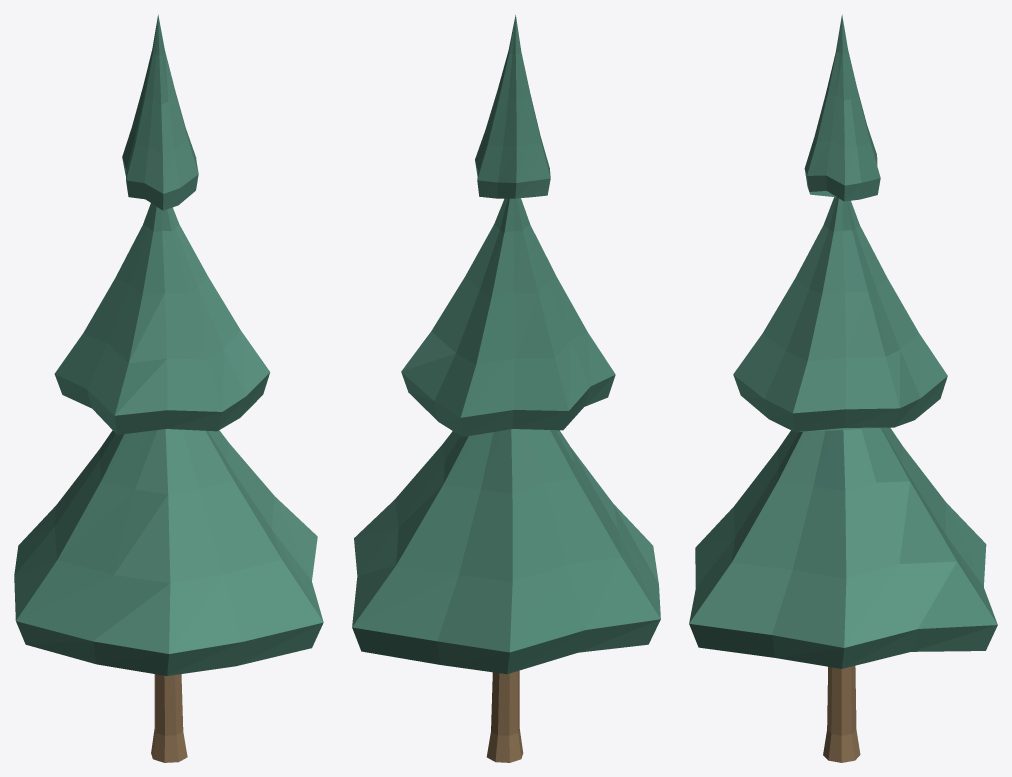
Rendered from conifer_03.glb.
3 views of the same model, side by side, from view 1: azimuth 30°, elevation 25°; view 2: azimuth 150°, elevation 25°; view 3: azimuth 270°, elevation 25° (orthographic).
Parts seen in each view (by area): view 1: Conifer_03; view 2: Conifer_03; view 3: Conifer_03.
Part boxes in pixels (x1,y1,x2,y2): Conifer_03: [14, 14, 323, 762]; Conifer_03: [352, 15, 660, 762]; Conifer_03: [689, 14, 997, 762].
Bounding box in the file's own units: 6.86 × 16.03 × 6.1.
